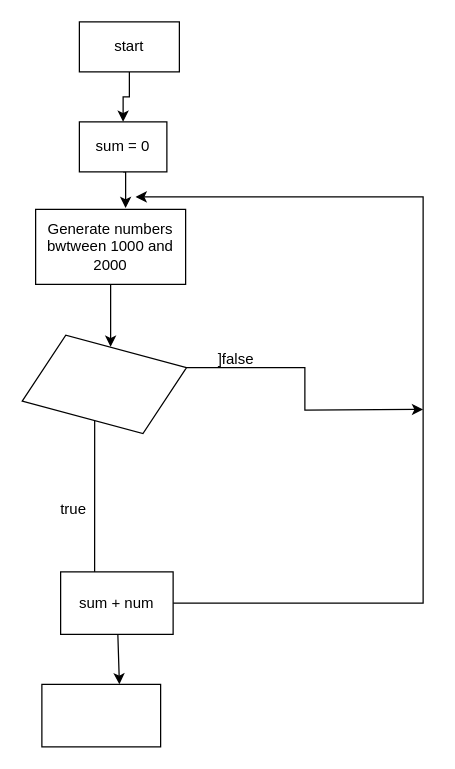
This 455x769 diagram has some shape labels left out. The centre of each missing label's shape, as x and y in pixels:
"number % 2 =0" belongs at [104,383].
"output sum" belongs at [101,715].
